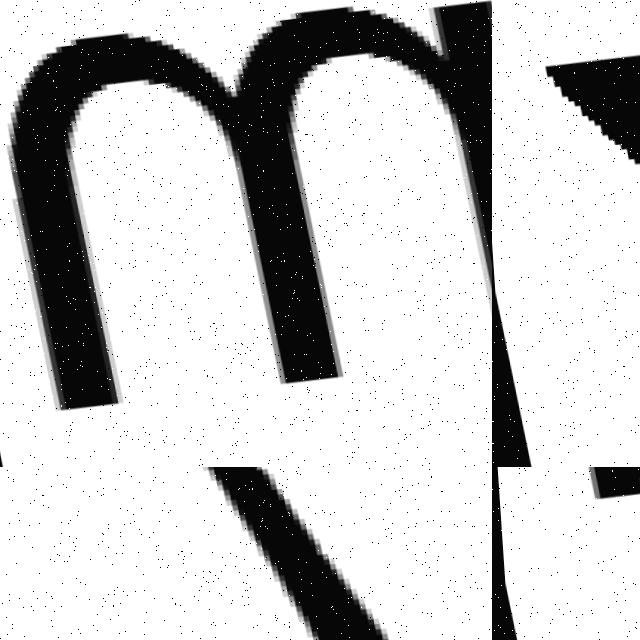7: (15, 467, 467, 640), (538, 0, 640, 467)
M: (0, 0, 492, 425)
R: (554, 467, 640, 640)
